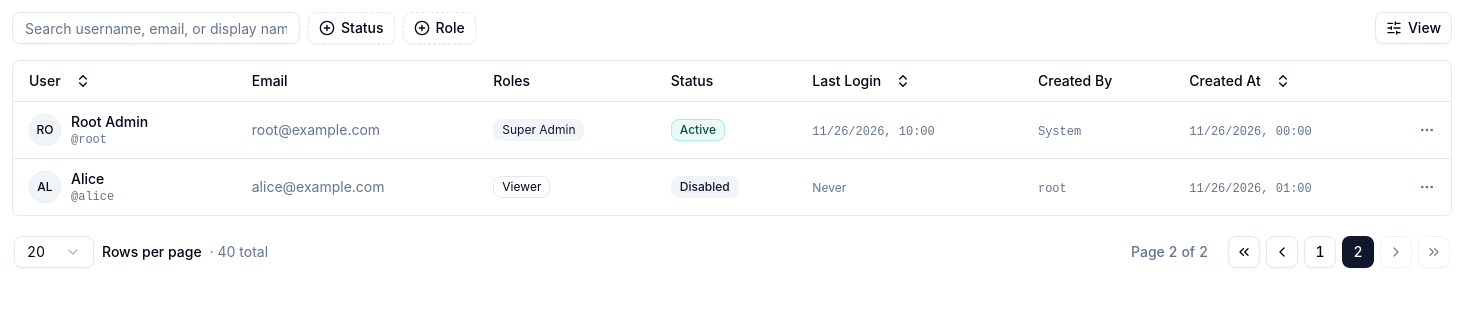
Test: users feature › renders users table, resets page on search, and distinguishes empty states
Later steps or results of the test are not shown.
Expected: the text "Root Admin" is shown, [71, 112, 148, 132]
Expected: the text "@alice" is shown, [71, 188, 114, 204]
In the field with placeholder "Search username, email, or display name...": (156, 28) [12, 12, 300, 44], type "nonexistent"
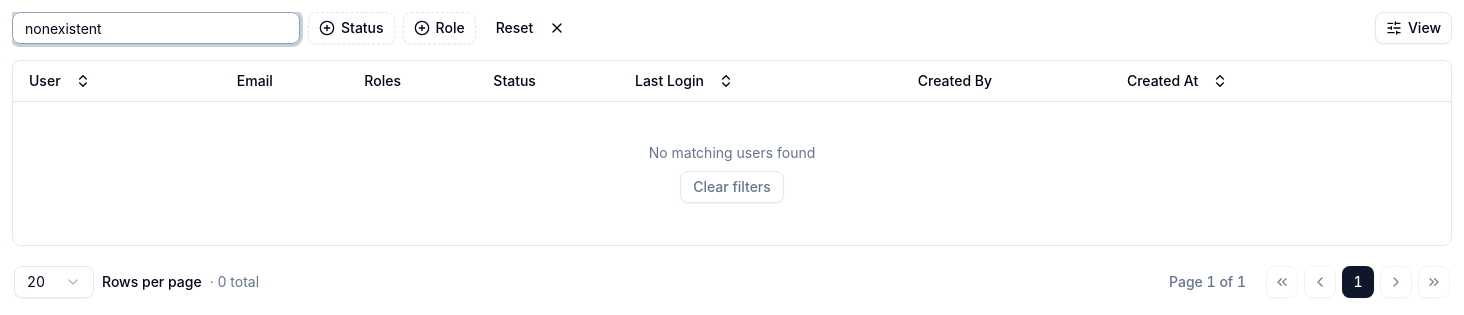
Result: the text "No matching users found" is shown at [649, 143, 815, 163]
Result: the button "Clear filters" is shown at [680, 171, 784, 203]
